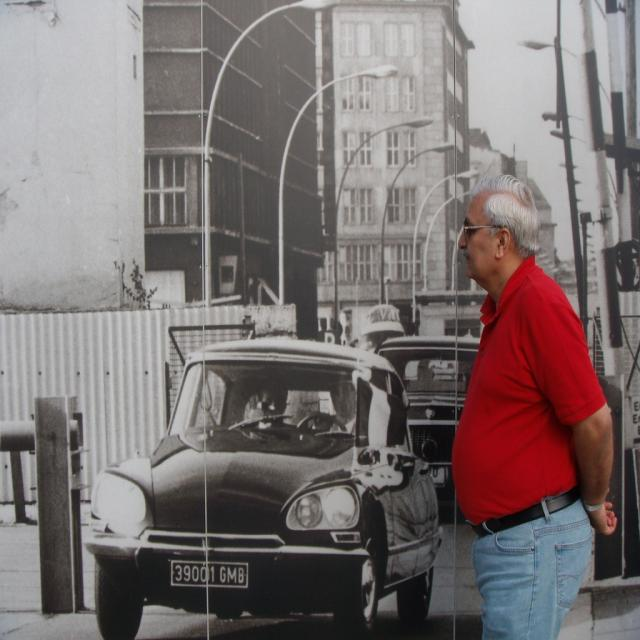Passenger Car: (90, 340, 440, 638)
Pedestrians: (450, 174, 616, 637)
